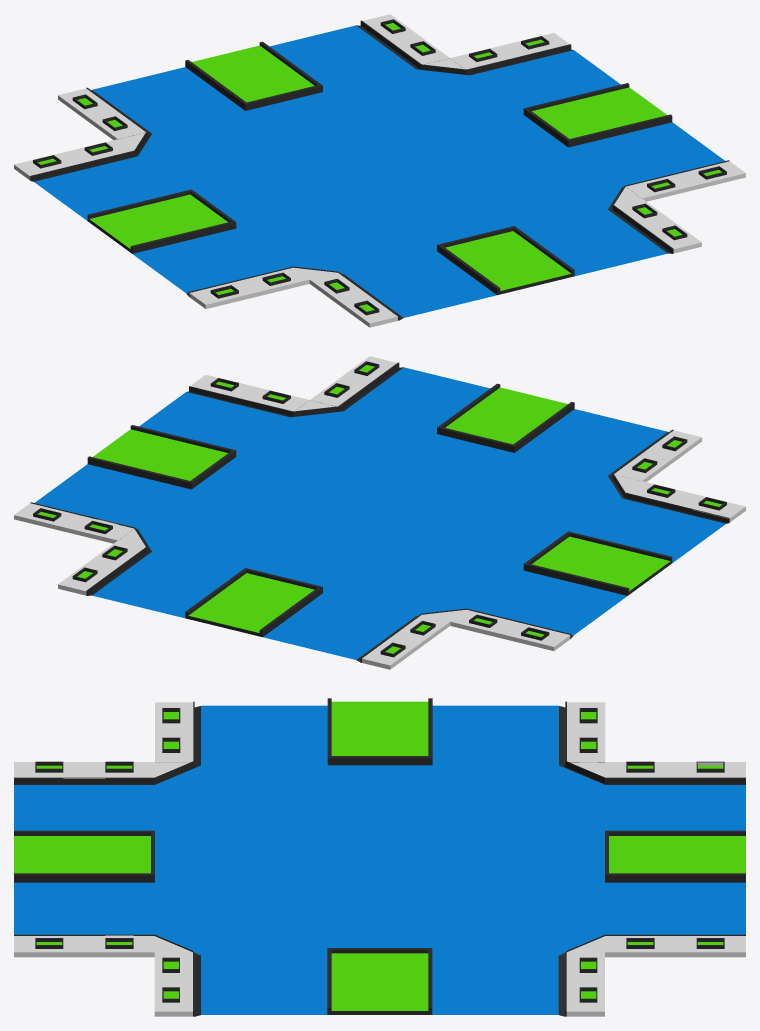
File: Road _Square_f.fbx
3 renders of one model, top to bottom at view 1: azimuth 30°, elevation 25°; view 2: azimuth 150°, elevation 25°; view 3: azimuth 270°, elevation 25°, orthographic. The views are drawn at different scales.
Visible parts, largest first — view 1: Cube; view 2: Cube; view 3: Cube.
Part boxes in pixels (bbox=[...]): Cube: bbox=[14, 14, 745, 327]; Cube: bbox=[14, 356, 745, 669]; Cube: bbox=[14, 698, 745, 1016].
Size of the model in its own units: 2088 by 2088 by 29.31.
